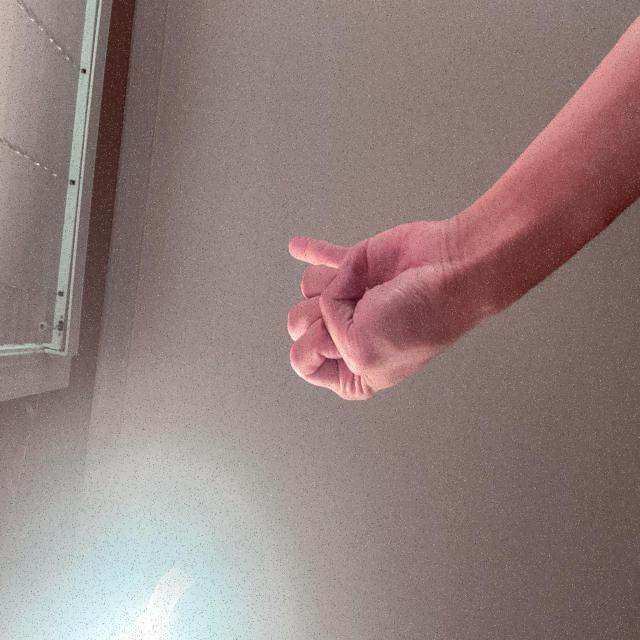I: (171, 364, 320, 624)
